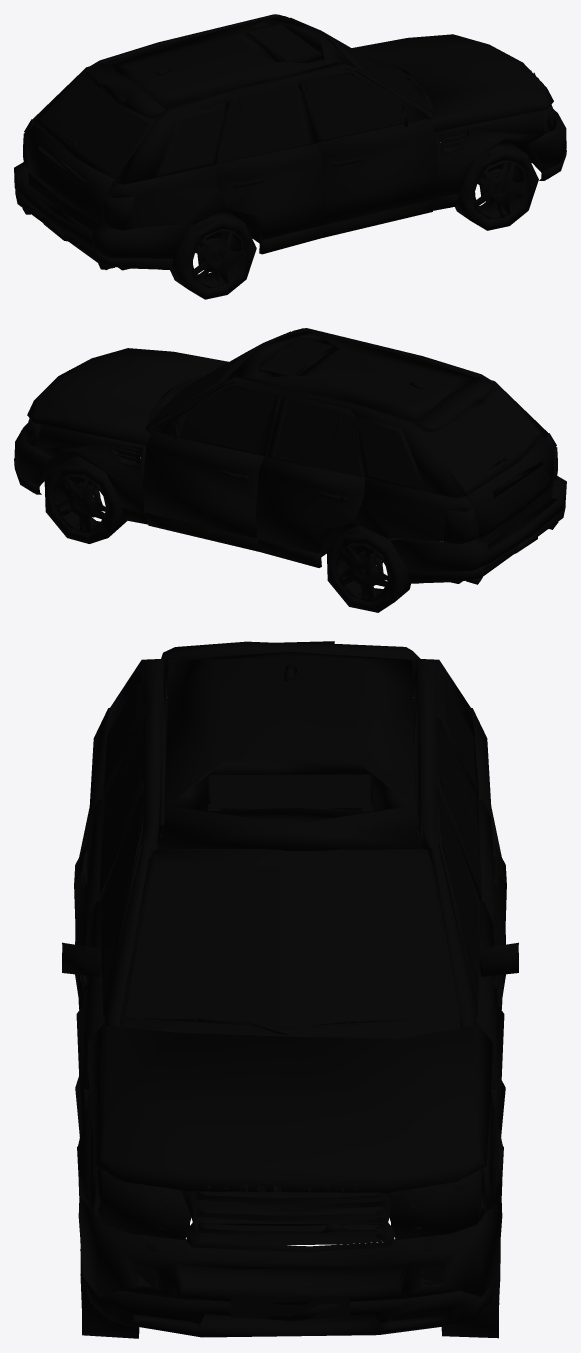
The model's file is v_rangerover_lod1.glb.
3 renders of one model, top to bottom at view 1: azimuth 30°, elevation 25°; view 2: azimuth 150°, elevation 25°; view 3: azimuth 270°, elevation 25°, orthographic. The views are drawn at different scales.
Visible parts, largest first — view 1: v_rangerover_lod1; view 2: v_rangerover_lod1; view 3: v_rangerover_lod1.
Part boxes in pixels (left/top/right/bottom): v_rangerover_lod1: left=14, top=14, right=566, bottom=299; v_rangerover_lod1: left=14, top=328, right=566, bottom=612; v_rangerover_lod1: left=62, top=641, right=518, bottom=1338.
Size of the model in its own units: 5 by 1.88 by 2.03.
1 material, 1 textured.
